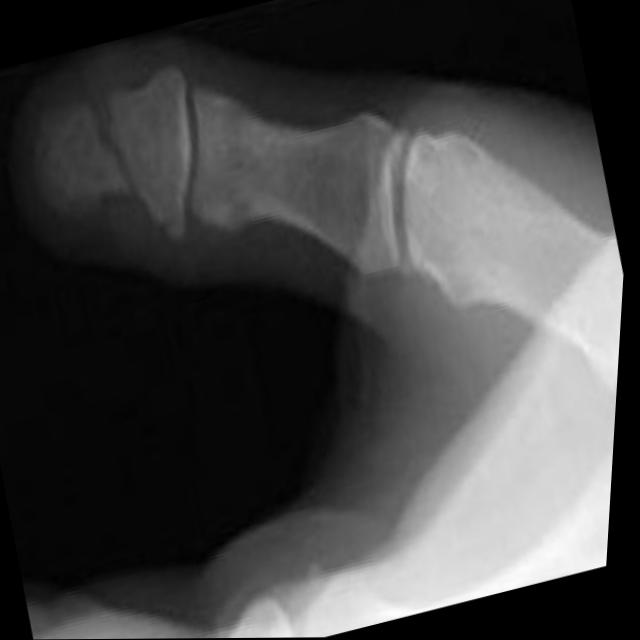fracture: (61, 56, 174, 256)
